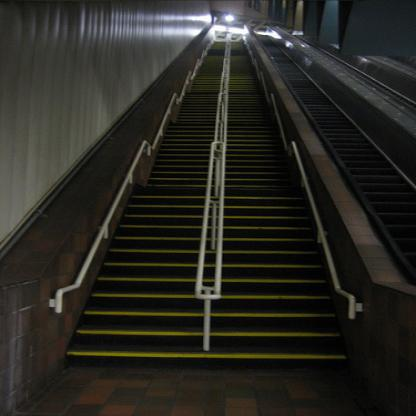stairs: (223, 300, 330, 368)
